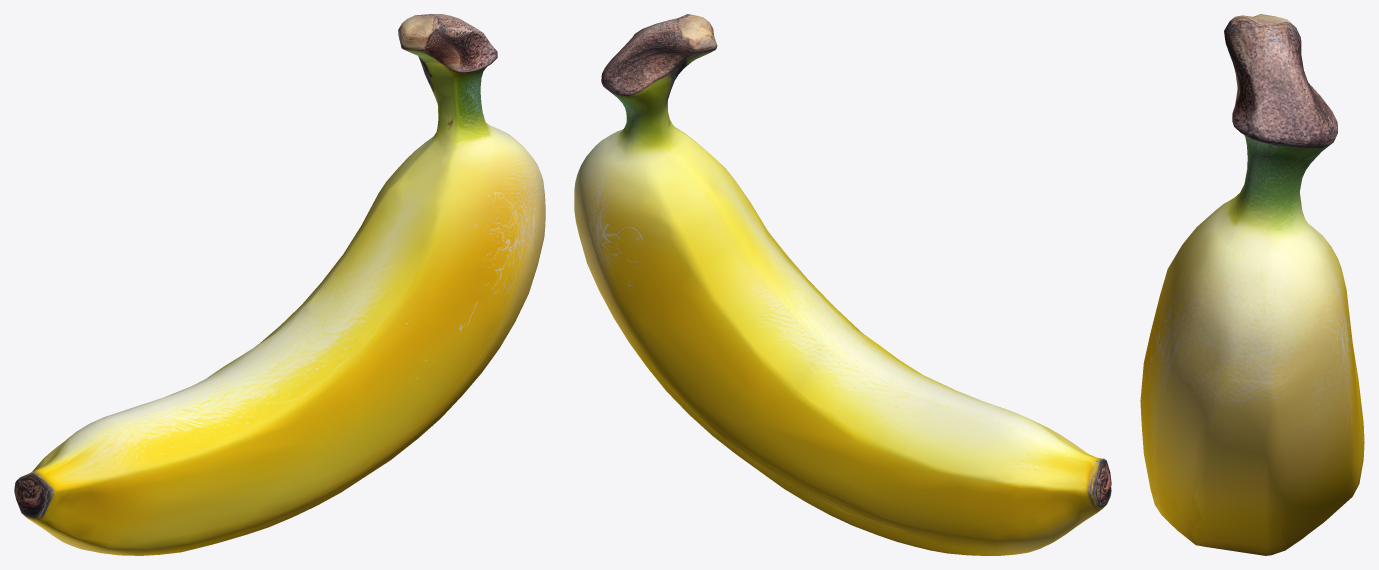
Rendered from banana_-_photorealistic_fruit_asset.glb.
3 renders of one model, left to right at view 1: azimuth 30°, elevation 25°; view 2: azimuth 150°, elevation 25°; view 3: azimuth 270°, elevation 25°, orthographic. The views are drawn at different scales.
Visible parts, largest first — view 1: mesh_input_0; view 2: mesh_input_0; view 3: mesh_input_0.
Part boxes in pixels (x1=…): mesh_input_0: x1=14, y1=14, x2=545, y2=555; mesh_input_0: x1=574, y1=14, x2=1111, y2=555; mesh_input_0: x1=1140, y1=14, x2=1364, y2=555.
Bounding box in the file's own units: 0.1734 × 0.1492 × 0.0469.
Materials: 1 (1 with a texture image).
